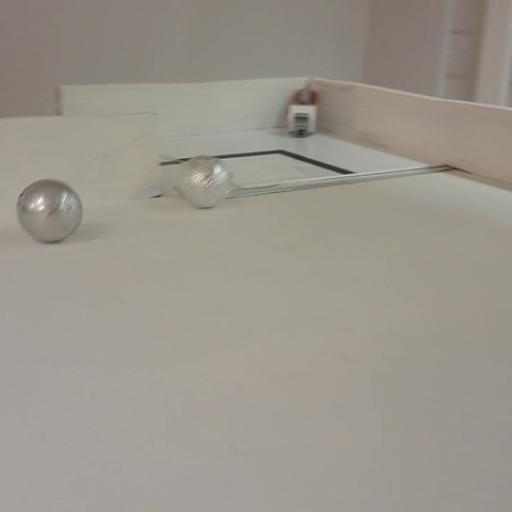alive: (15, 178, 84, 244), (173, 154, 234, 210)
